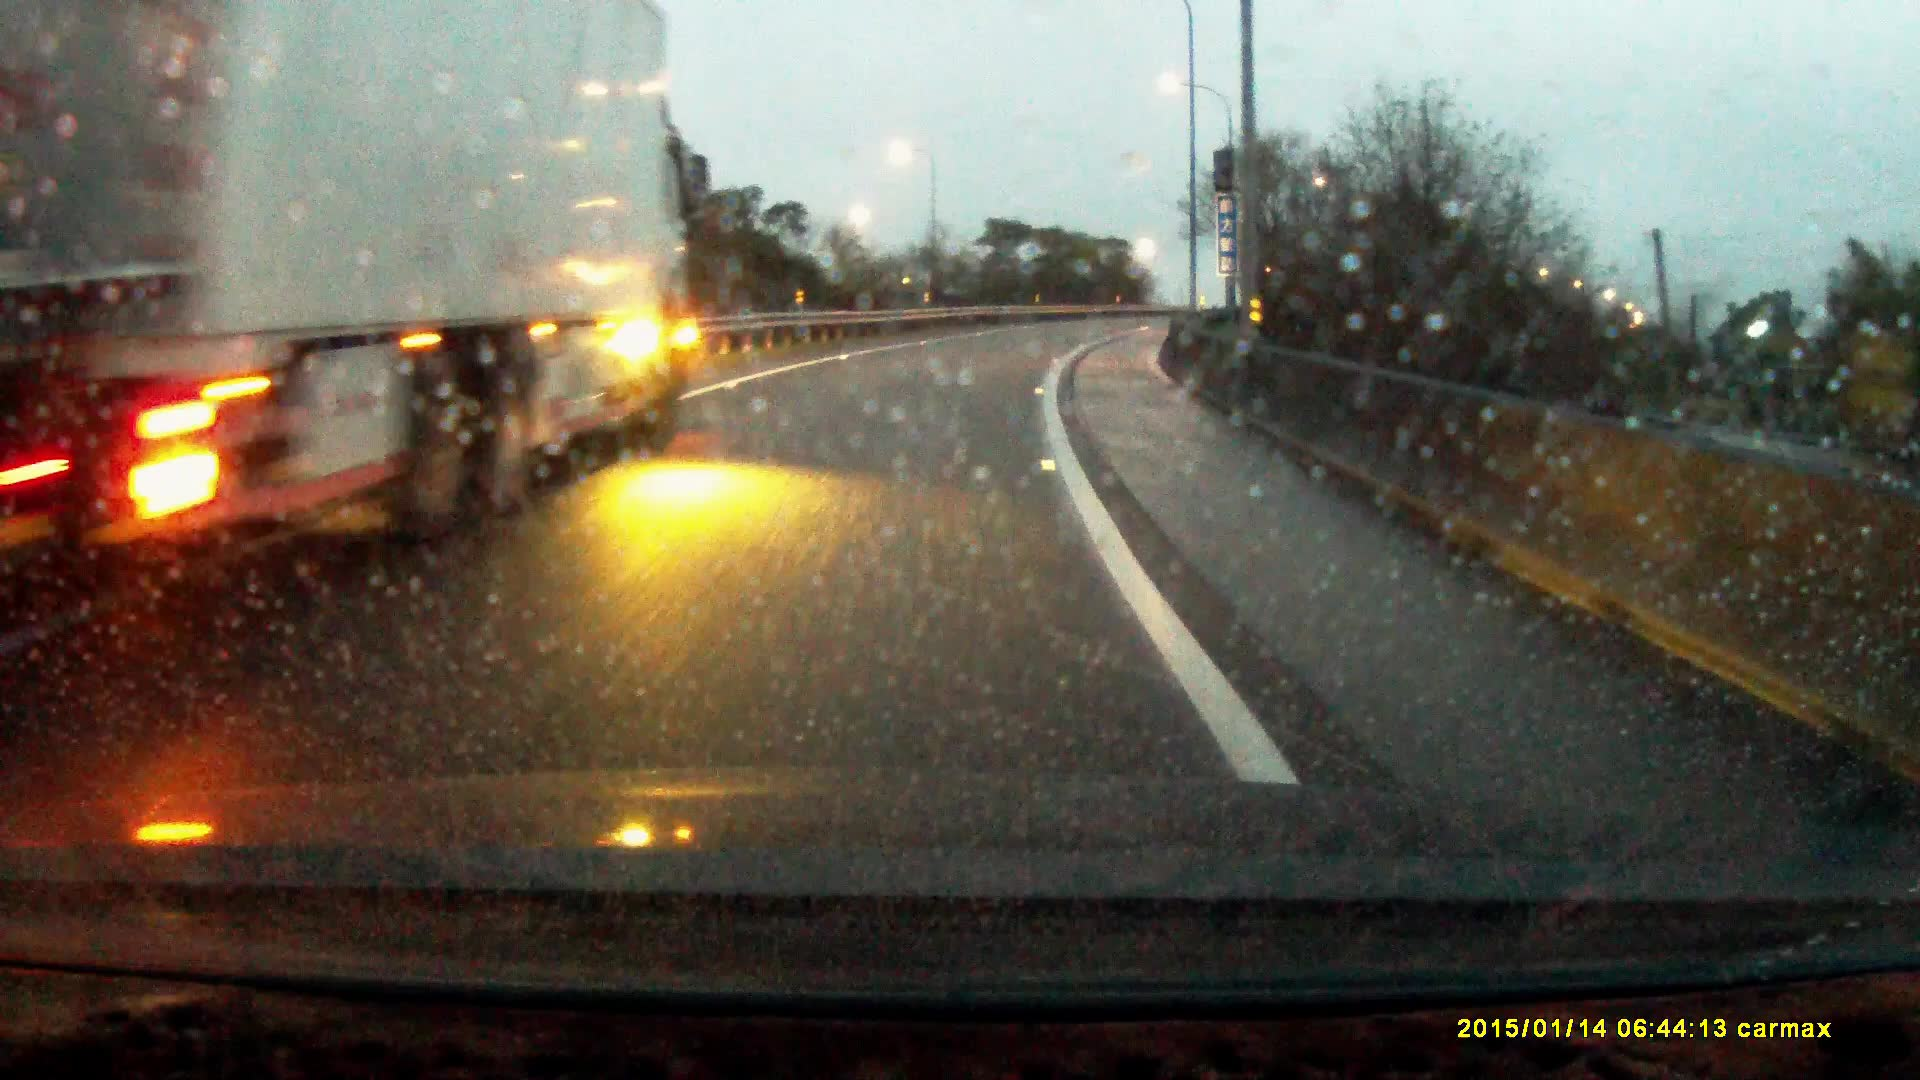vehicle: (8, 1, 700, 592)
